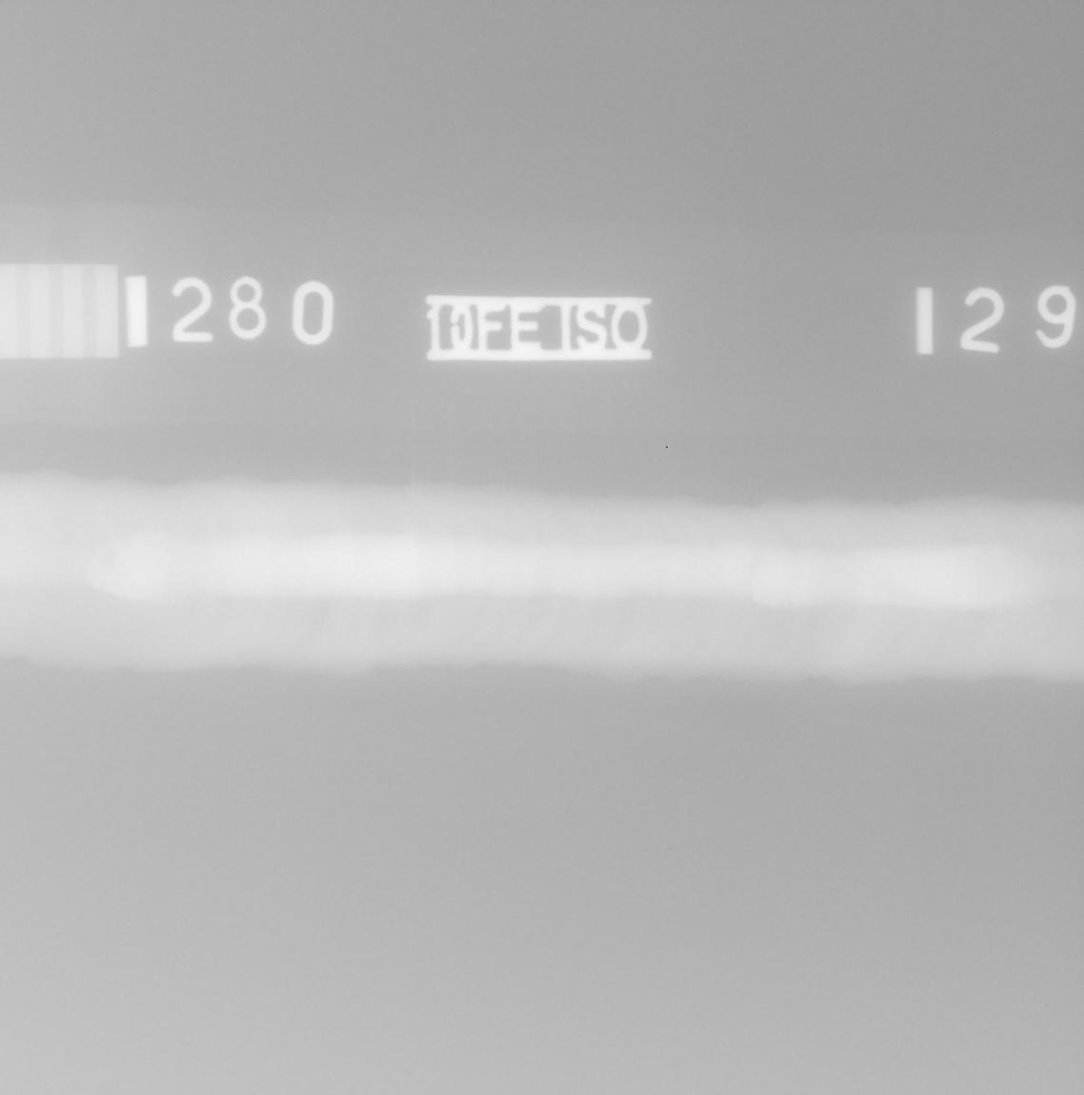Pore/Porosity: (101, 551, 118, 565), (93, 629, 101, 637), (954, 593, 962, 600), (974, 554, 979, 561), (102, 629, 108, 634), (113, 633, 119, 638), (187, 595, 190, 599)
